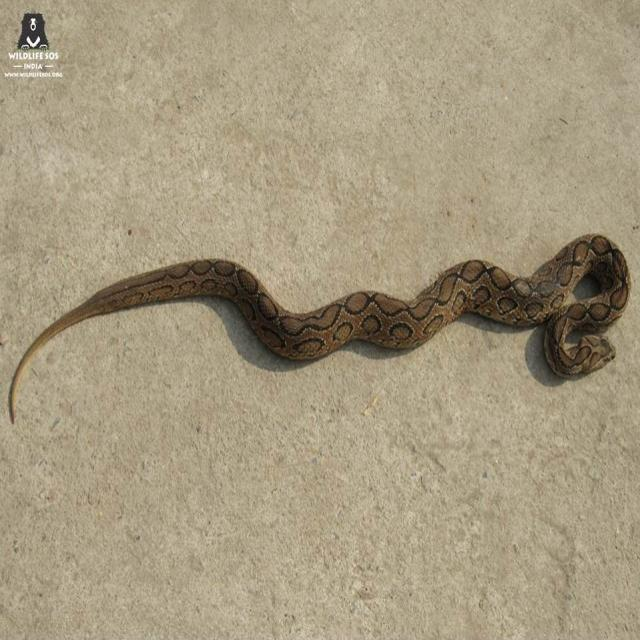Snake: (8, 230, 631, 424)
